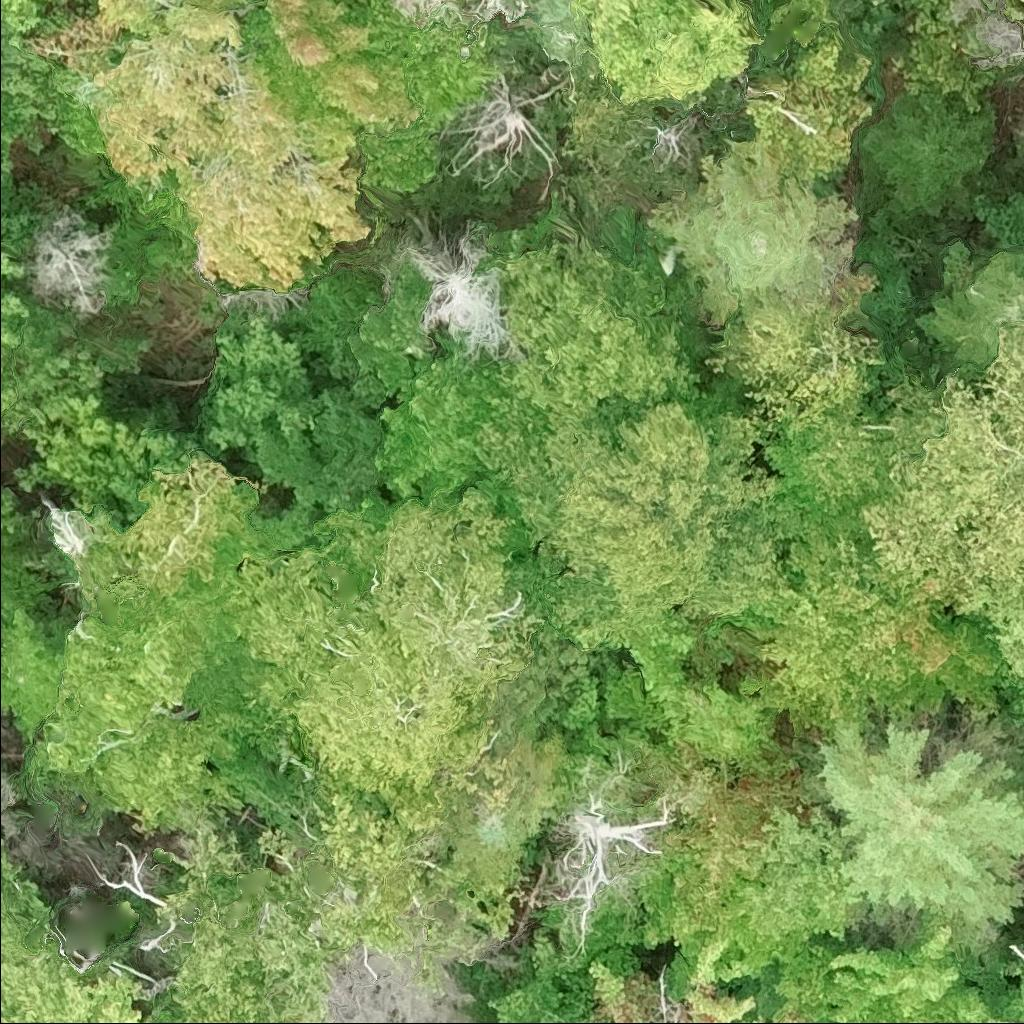crown: (243, 489, 529, 801), (490, 238, 701, 535), (538, 400, 807, 630), (854, 280, 1023, 625), (262, 0, 530, 189), (722, 310, 902, 582), (264, 784, 514, 977), (32, 623, 232, 828), (821, 721, 1023, 923), (659, 144, 853, 331), (149, 827, 323, 1023), (86, 12, 254, 188), (583, 594, 786, 739), (0, 831, 150, 1023), (753, 565, 931, 718), (75, 463, 252, 609), (498, 935, 760, 1023), (772, 929, 992, 1023), (743, 38, 875, 188), (563, 787, 674, 958), (0, 247, 102, 433), (852, 88, 995, 207), (440, 74, 575, 200), (408, 225, 525, 365), (582, 0, 752, 96), (742, 806, 854, 935), (886, 602, 1007, 720), (0, 491, 68, 631), (32, 212, 118, 321), (0, 618, 58, 744), (102, 0, 251, 43), (390, 0, 532, 29), (0, 0, 102, 40), (988, 611, 1023, 723), (538, 0, 591, 60), (1008, 933, 1023, 967), (773, 1013, 799, 1023), (993, 1019, 1023, 1023)
